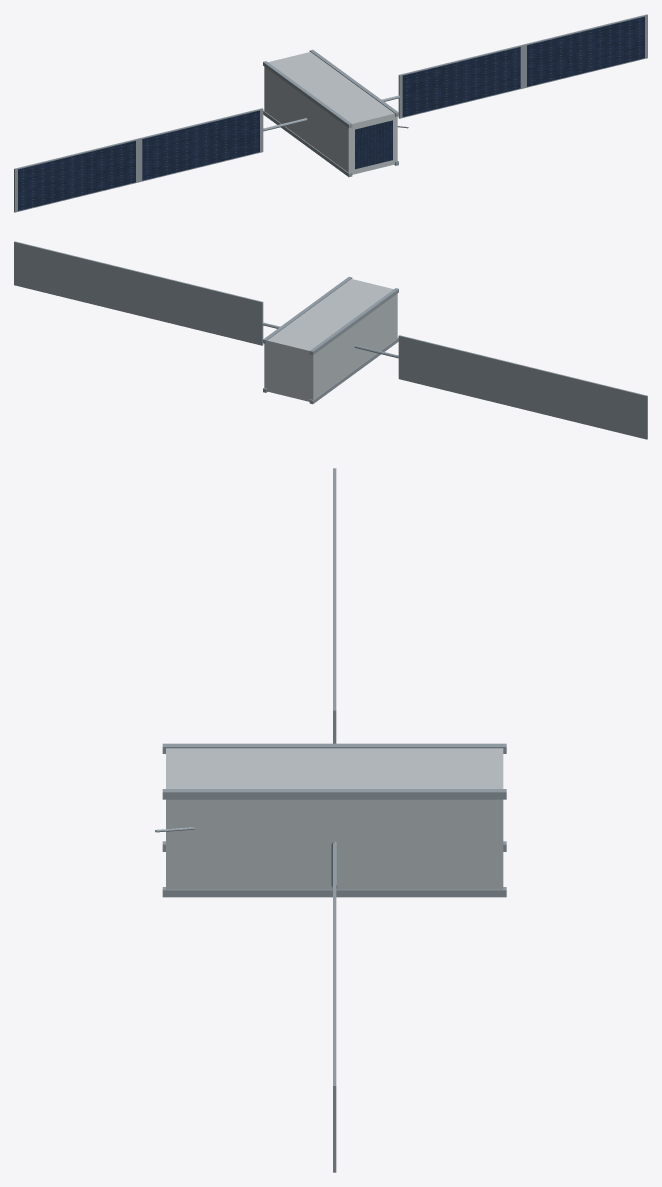
Rendered from ref-cubesat-6u-43720.glb.
3 views of the same model, one above another, from view 1: azimuth 30°, elevation 25°; view 2: azimuth 150°, elevation 25°; view 3: azimuth 270°, elevation 25° (orthographic). The views are drawn at different scales.
Parts seen in each view (by area): view 1: Photovoltaic laminates (×4), Spacecraft body, Array frame (×4), Body-mounted cells, Dispenser rail (×3); view 2: Array frame (×4), Spacecraft body, Dispenser rail (×3); view 3: Spacecraft body, Dispenser rail (×3).
Boxes of the visible parts, x1,y1,x2,y2 form: Photovoltaic laminates (×4): (18,16,644,210); Spacecraft body: (264,52,397,174); Array frame (×4): (14,14,647,212); Body-mounted cells: (355,120,392,169); Dispenser rail (×3): (263,49,398,177); Array frame (×4): (14,241,647,439); Spacecraft body: (264,279,397,401); Dispenser rail (×3): (263,276,398,404); Spacecraft body: (166,748,503,889); Dispenser rail (×3): (162,743,506,897).
Size of the model in its own units: 1.3 by 0.103 by 0.3125.
3 materials, 1 textured.
